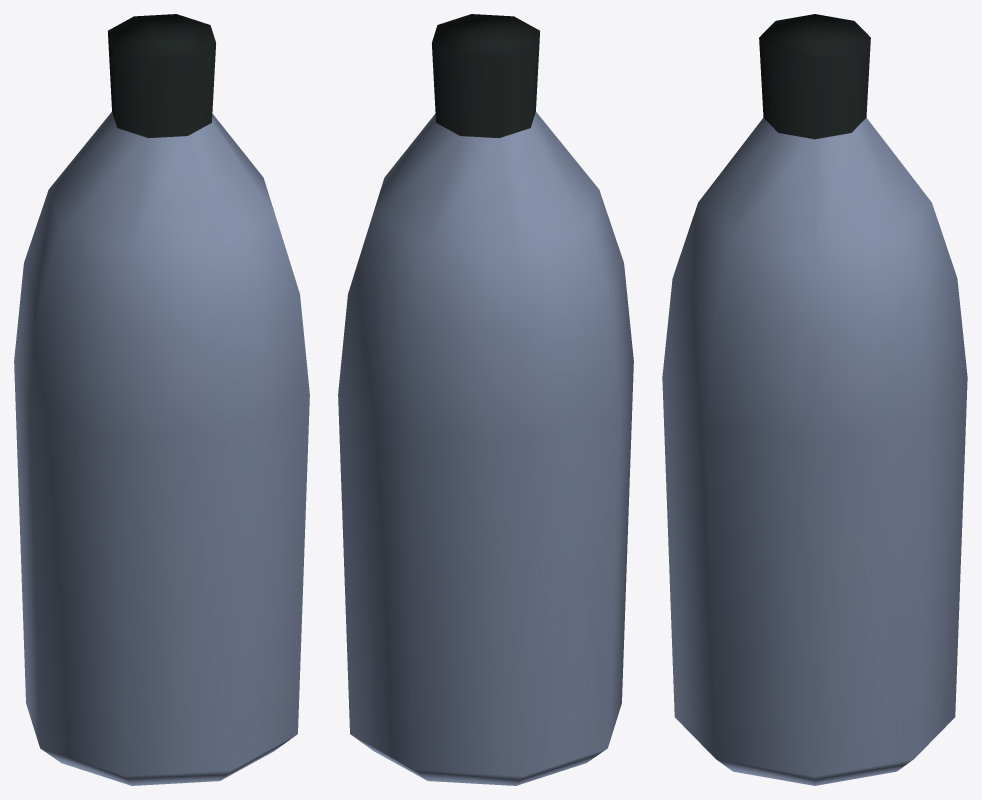
Rendered from prop_GarbageBottle01.fbx.
3 views of the same model, side by side, from view 1: azimuth 30°, elevation 25°; view 2: azimuth 150°, elevation 25°; view 3: azimuth 270°, elevation 25° (orthographic).
Visible parts, largest first — view 1: prop_Bottle02; view 2: prop_Bottle02; view 3: prop_Bottle02.
Boxes of the visible parts, x1=… form: prop_Bottle02: x1=14, y1=14, x2=309, y2=785; prop_Bottle02: x1=338, y1=14, x2=633, y2=785; prop_Bottle02: x1=662, y1=14, x2=967, y2=785.
Size of the model in its own units: 21.37 by 54.02 by 21.37.
